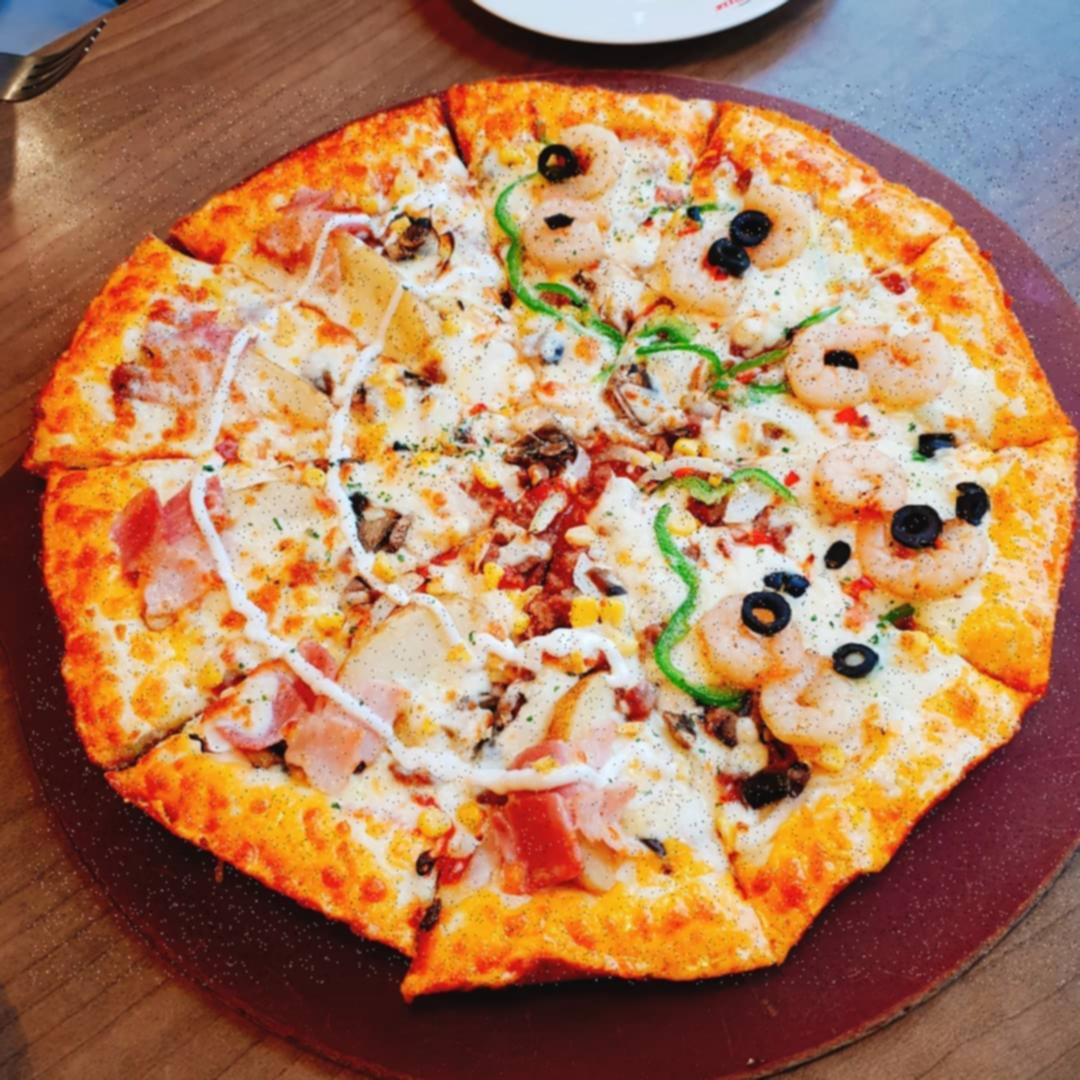Ham: (205, 638, 405, 795), (490, 738, 633, 895), (110, 479, 231, 607), (122, 312, 253, 415), (256, 183, 381, 258)
Mushroom: (350, 504, 420, 554)
Olives: (744, 593, 795, 637), (894, 506, 942, 546), (704, 237, 752, 275), (538, 145, 584, 183), (729, 210, 773, 247), (833, 642, 878, 675), (956, 483, 989, 523), (763, 569, 810, 592), (825, 351, 863, 374), (544, 211, 578, 234), (920, 433, 954, 454)
Pepperoni: (645, 502, 706, 702), (538, 284, 628, 353), (494, 174, 538, 315), (650, 469, 802, 502), (629, 332, 727, 378), (726, 350, 792, 397)
Pizza: (28, 85, 1080, 985)
